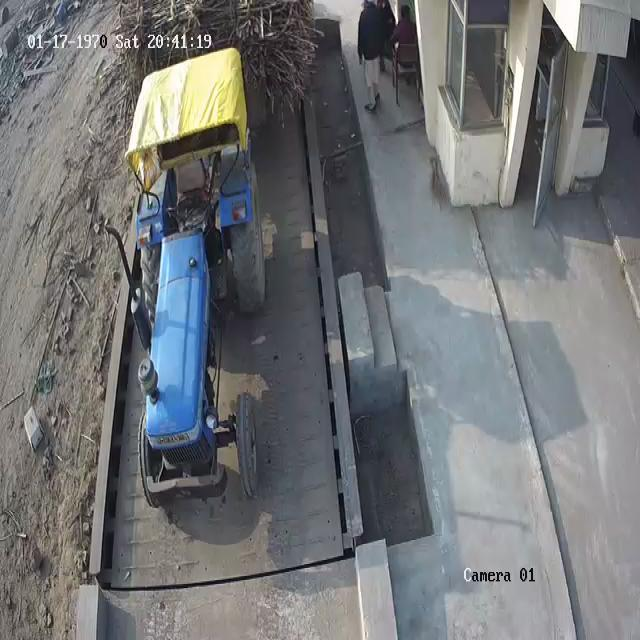Tratores - v5 YOLO V8L 2024-11-13: (106, 65, 271, 506)
